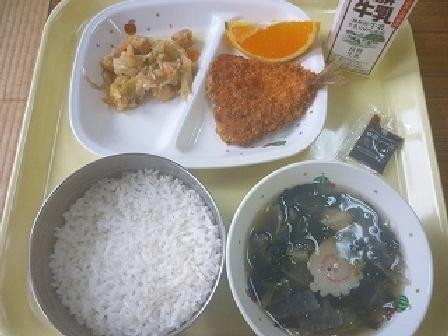Citrus: (220, 12, 333, 65)
Milk: (323, 0, 427, 69)
Rice: (33, 157, 226, 330)
Soups: (241, 169, 438, 330)
cutlet: (197, 51, 357, 145)
vegetable based cooked food: (97, 24, 206, 115)
